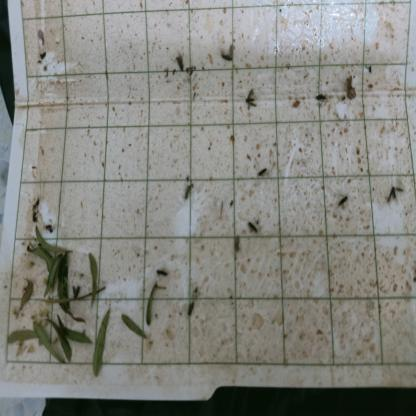prays_oleae: (245, 212, 263, 240), (386, 181, 404, 208), (243, 86, 260, 112), (218, 46, 236, 66), (336, 190, 351, 213), (154, 264, 172, 283), (172, 52, 186, 74), (181, 180, 197, 199), (184, 298, 198, 319), (255, 163, 270, 180), (43, 218, 56, 236), (314, 90, 328, 104)
